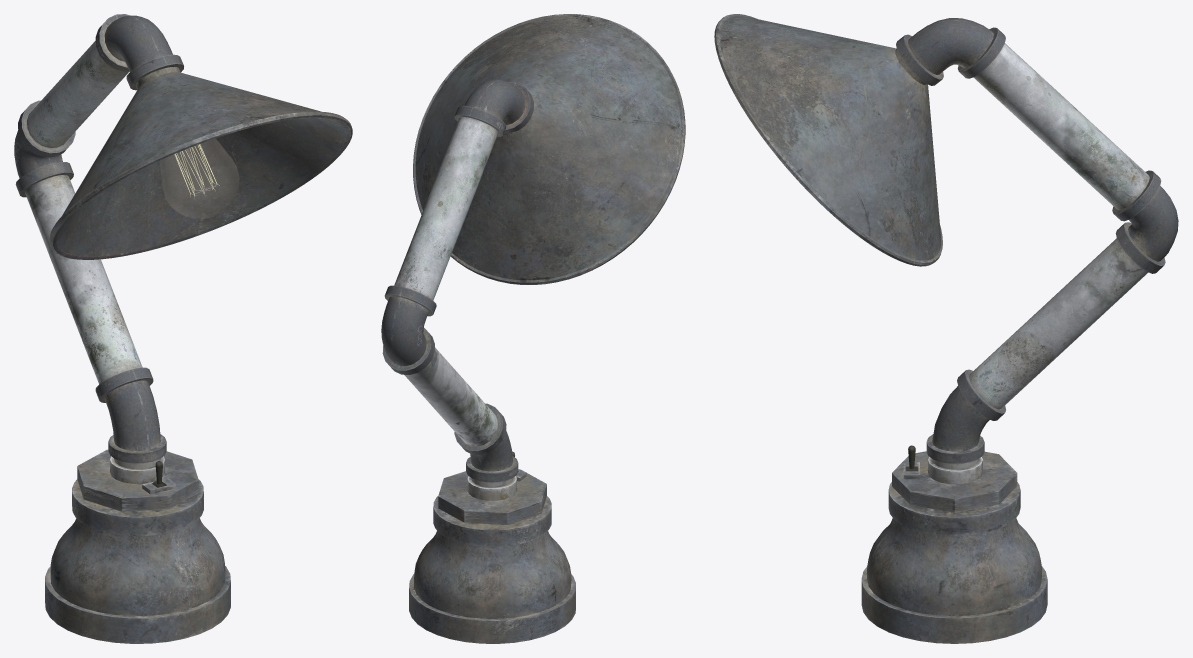
Rendered from lamp.glb.
3 views of the same model, side by side, from view 1: azimuth 30°, elevation 25°; view 2: azimuth 150°, elevation 25°; view 3: azimuth 270°, elevation 25° (orthographic). The views are drawn at different scales.
Parts seen in each view (by area): view 1: industrial_pipe_lamp, industrial_pipe_lamp_bulb; view 2: industrial_pipe_lamp; view 3: industrial_pipe_lamp.
Boxes of the visible parts, x1,y1,x2,y2 form: industrial_pipe_lamp: (14,14,352,643); industrial_pipe_lamp_bulb: (160,138,239,218); industrial_pipe_lamp: (381,14,685,643); industrial_pipe_lamp: (714,14,1178,643).
Size of the model in its own units: 0.183 by 0.3641 by 0.2621.
2 materials, 2 textured.
